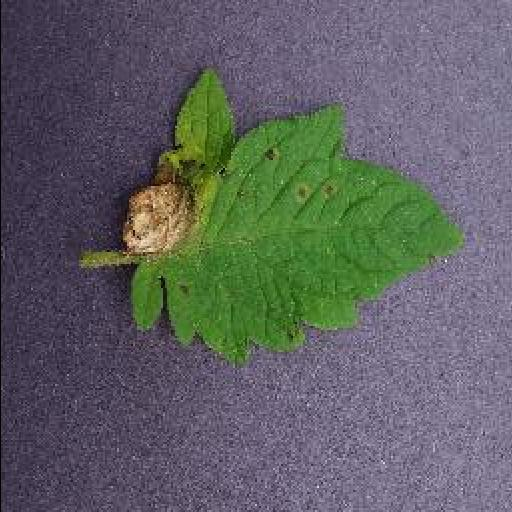disease_tomato: (121, 72, 467, 362)
